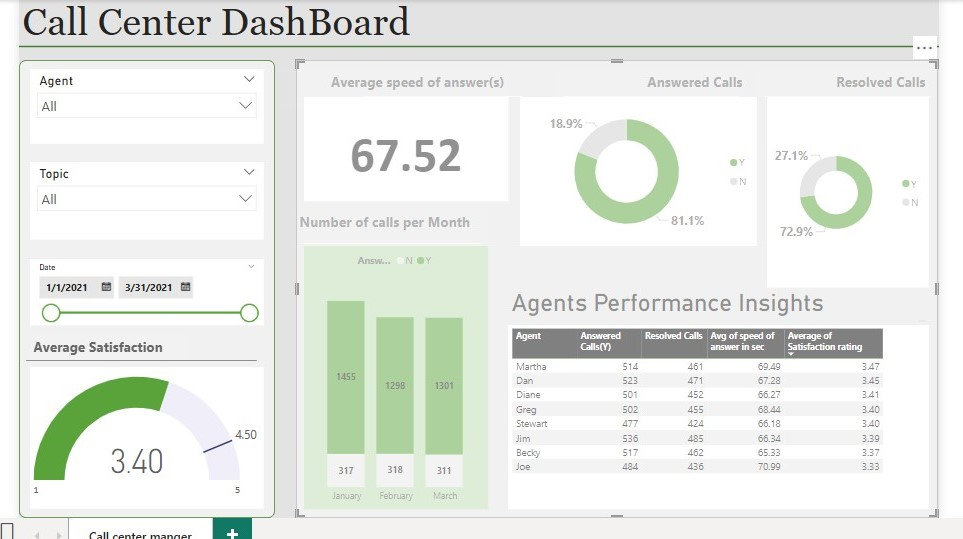

Layout of this report page (visuals, bound fields, positions):
{"tool":"powerbi","page":{"name":"Call center manger","canvas":[1280,720],"ordinal":0},"visuals":[{"type":"shape","box":[0,83.4,355.8,636.6],"z":0},{"type":"gauge","title":"Overall Satifaction Ratings","fields":{"Y":["Avg(Sheet1.Satisfaction rating)"],"MaxValue":["Max(Sheet1.Satisfaction rating)"],"MinValue":["Min(Sheet1.Satisfaction rating)"],"TargetValue":["Sheet1.Target Value Satisfaction"]},"box":[15.3,510.1,325.3,197.4],"z":1000},{"type":"donutChart","title":"Answered vs Abandoned Calls","fields":{"Category":["Sheet1.Resolved"],"Y":["CountNonNull(Sheet1.Resolved)"],"Series":["Sheet1.Resolved"]},"box":[1039.7,134.8,225.2,265.5],"z":2000},{"type":"card","title":"Average Speed of Answered (Seconds)","fields":{"Values":["Avg(Sheet1.Speed of answer in seconds)"]},"box":[396.1,134.8,283.6,144.6],"z":3000},{"type":"slicer","fields":{"Values":["Sheet1.Agent"]},"box":[15.3,95.9,325.3,104.2],"z":4000},{"type":"slicer","fields":{"Values":["Sheet1.Topic"]},"box":[15.3,225.2,325.3,108.4],"z":5000},{"type":"slicer","fields":{"Values":["Sheet1.Date"]},"box":[15.3,360,325.3,91.7],"z":6000},{"type":"textbox","title":"Call Center DashBoard","box":[0,0,1130,65.3],"z":7000},{"type":"shape","box":[0,55.6,1280.2,18.1],"z":8000},{"type":"basicShape","box":[0,472.6,340.5,57],"z":9000},{"type":"textbox","box":[15.3,464.2,222.4,34.7],"z":10000},{"type":"basicShape","box":[1025.8,95.9,251.6,76.4],"z":11000},{"type":"textbox","box":[1025.8,95.9,239.1,38.9],"z":12000},{"type":"donutChart","title":"Answered vs Abandoned Calls","fields":{"Y":["CountNonNull(Sheet1.Answered (Y/N))"],"Series":["Sheet1.Answered (Y/N)"],"Category":["Sheet1.Answered (Y/N)"]},"box":[696.4,134.8,329.4,207.1],"z":13000},{"type":"basicShape","box":[747.8,95.9,262.7,76.4],"z":14000},{"type":"textbox","box":[747.8,95.9,262.7,52.8],"z":15000},{"type":"basicShape","box":[468.4,95.9,240.5,76.4],"z":16000},{"type":"textbox","box":[372.5,95.9,307.2,52.8],"z":17000},{"type":"tableEx","fields":{"Values":["Sheet1.Agent","Sheet1.Answered Calls","Sheet1.Measure","Avg(Sheet1.Speed of answer in seconds)","Avg(Sheet1.Satisfaction rating)"]},"box":[679.7,451.7,585.2,255.8],"z":18000},{"type":"columnChart","fields":{"Y":["CountNonNull(Sheet1.Call Id)"],"Series":["Sheet1.Answered (Y/N)"],"Category":["Date.Month Name"]},"box":[396.1,341.9,255.8,365.6],"z":19000},{"type":"basicShape","box":[385,316.9,266.9,43.1],"z":20000},{"type":"textbox","box":[385,290.5,266.9,51.4],"z":21000},{"type":"textbox","title":"Agents Performance Insights","box":[679.7,401.7,585.2,50],"z":22000},{"type":"shape","box":[385,83.4,892.4,636.6],"z":23000}]}

Visuals, with their boxes on the page's 1280x720 design canvas (x1, y1, x2, y2). These are canvas units, not pixel positions in the 963x539 screenshot, which may show the page scaled, cropped or inside an application window:
shape: [left=0, top=83, right=356, bottom=720]
"Overall Satifaction Ratings" gauge: [left=15, top=510, right=341, bottom=708]
"Answered vs Abandoned Calls" donutChart: [left=1040, top=135, right=1265, bottom=400]
"Average Speed of Answered (Seconds)" card: [left=396, top=135, right=680, bottom=279]
slicer - Sheet1.Agent: [left=15, top=96, right=341, bottom=200]
slicer - Sheet1.Topic: [left=15, top=225, right=341, bottom=334]
slicer - Sheet1.Date: [left=15, top=360, right=341, bottom=452]
"Call Center DashBoard" textbox: [left=0, top=0, right=1130, bottom=65]
shape: [left=0, top=56, right=1280, bottom=74]
basicShape: [left=0, top=473, right=340, bottom=530]
textbox: [left=15, top=464, right=238, bottom=499]
basicShape: [left=1026, top=96, right=1277, bottom=172]
textbox: [left=1026, top=96, right=1265, bottom=135]
"Answered vs Abandoned Calls" donutChart: [left=696, top=135, right=1026, bottom=342]
basicShape: [left=748, top=96, right=1010, bottom=172]
textbox: [left=748, top=96, right=1010, bottom=149]
basicShape: [left=468, top=96, right=709, bottom=172]
textbox: [left=372, top=96, right=680, bottom=149]
tableEx - Sheet1.Agent x Sheet1.Answered Calls: [left=680, top=452, right=1265, bottom=708]
columnChart - CountNonNull(Sheet1.Call Id) x Sheet1.Answered (Y/N): [left=396, top=342, right=652, bottom=708]
basicShape: [left=385, top=317, right=652, bottom=360]
textbox: [left=385, top=290, right=652, bottom=342]
"Agents Performance Insights" textbox: [left=680, top=402, right=1265, bottom=452]
shape: [left=385, top=83, right=1277, bottom=720]
